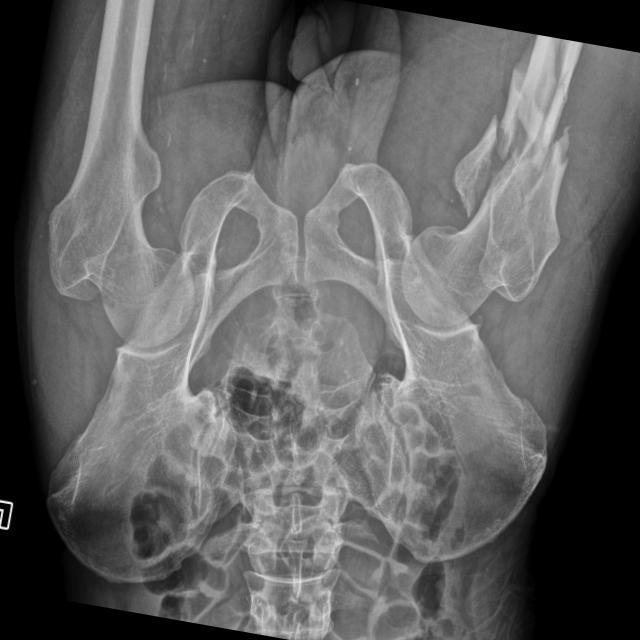normal-left: (46, 45, 193, 347)
right-lesser-trochanter: (450, 112, 498, 217)
right-subtrochanteric: (400, 125, 568, 325), (517, 33, 564, 156), (495, 64, 522, 160), (555, 38, 581, 98)
